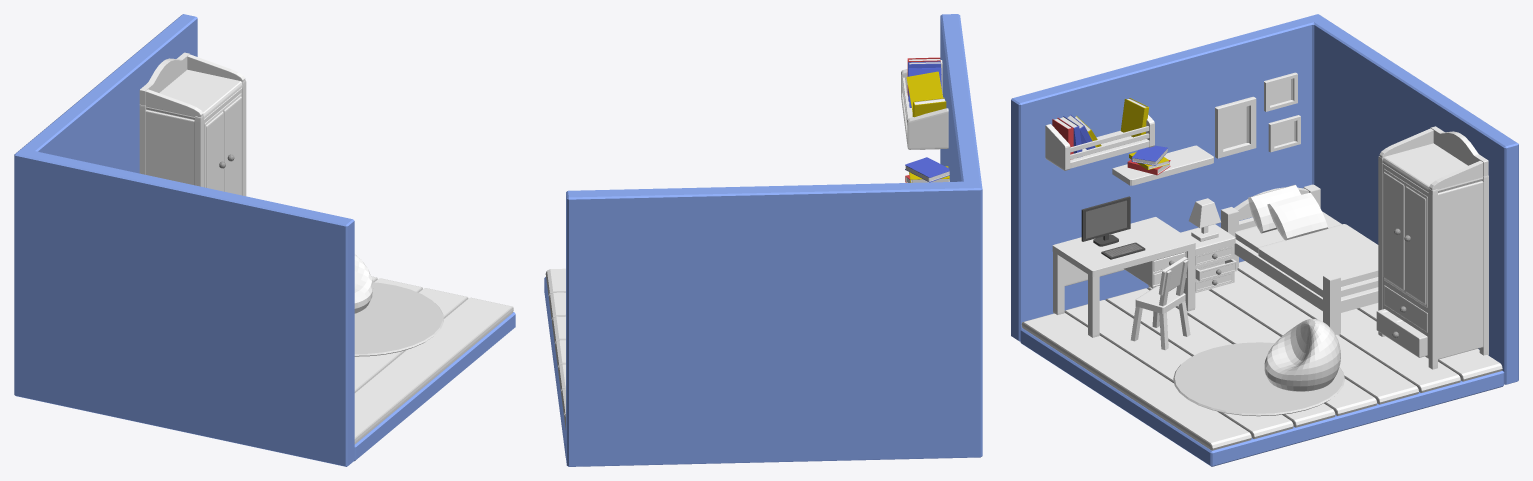
File: room.gltf
The picture shows the model from 3 angles, left to right: view 1: azimuth 30°, elevation 25°; view 2: azimuth 150°, elevation 25°; view 3: azimuth 270°, elevation 25°; orthographic projection. The views are drawn at different scales.
Visible parts, largest first — view 1: Wall, Wardrobe 1, Wood floor 1, Carpet 1, Floor, Seat 1; view 2: Wall, Wall bookshelf.001, Wood floor 1, Book stack 2.001, Book stack 1.001, Floor, Cube.008; view 3: Wall, Wood floor 1, Wardrobe 1, Bed 1, Floor, Carpet 1, Table 1, Seat 1, Wall bookshelf.001, Chair 1, Bedside table 1, Picture 1.001 (+8 smaller).
Boxes of the visible parts, x1,y1,x2,y2 form: Wall: (14, 14, 354, 466); Wardrobe 1: (139, 52, 246, 196); Wood floor 1: (354, 276, 513, 444); Carpet 1: (354, 282, 443, 356); Floor: (354, 312, 515, 461); Seat 1: (354, 254, 373, 313); Wall: (566, 14, 982, 466); Wall bookshelf.001: (901, 60, 948, 149); Wood floor 1: (545, 268, 565, 429); Book stack 2.001: (906, 57, 942, 111); Book stack 1.001: (905, 157, 949, 182); Floor: (544, 277, 565, 457); Cube.008: (912, 97, 946, 117); Wall: (1011, 14, 1518, 384); Wood floor 1: (1021, 261, 1502, 450); Wardrobe 1: (1376, 126, 1488, 369); Bed 1: (1221, 184, 1378, 335); Floor: (1020, 328, 1504, 466); Carpet 1: (1173, 342, 1344, 416); Table 1: (1052, 217, 1195, 337); Seat 1: (1264, 318, 1340, 391); Wall bookshelf.001: (1045, 115, 1154, 170); Chair 1: (1131, 257, 1190, 350); Bedside table 1: (1180, 224, 1236, 292); Picture 1.001: (1215, 96, 1256, 158).
Size of the model in its own units: 11.58 by 6.03 by 11.58.
